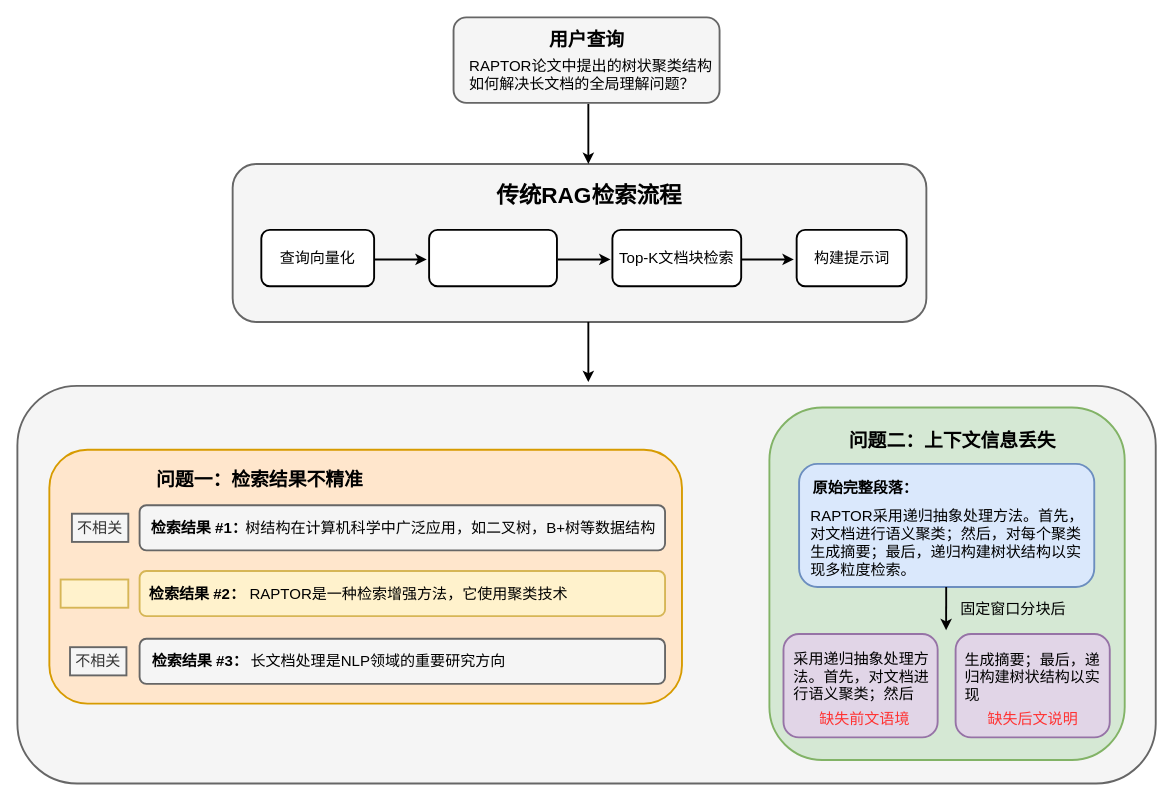
The diagram is 1172 pixels wide and 800 high, and some of its shapes have lost their labels. The centre of each missing label's shape, as x and y in pixels:
"向量相似度匹配" belongs at (x=492, y=257).
"部分相关" belongs at (x=94, y=593).
